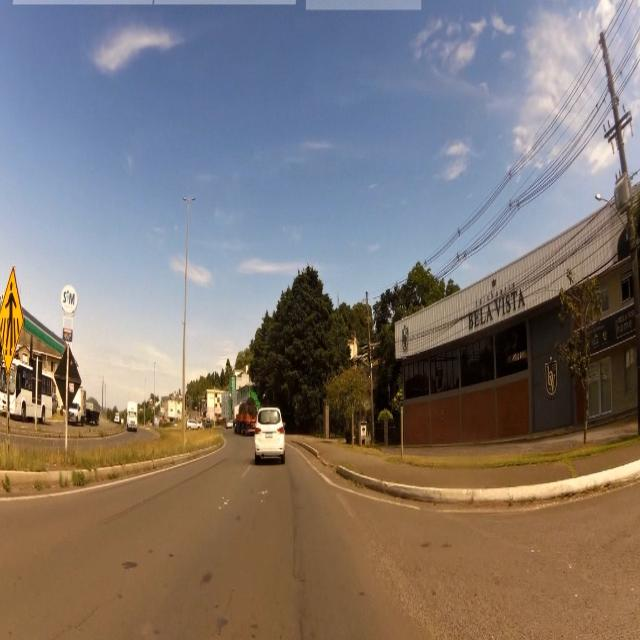A-32b: (1, 257, 27, 368)
